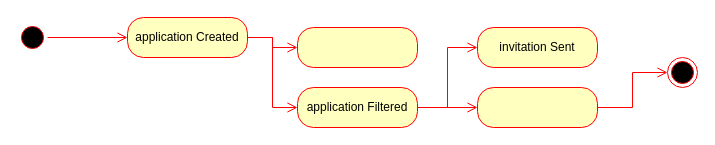
Image size: 715x145. Some labels were removed from this diagram. The centre of each missing label's shape, as x and y in pixels:
"application declined" belongs at (x=537, y=107).
"applications Fetched" belongs at (x=357, y=47).
